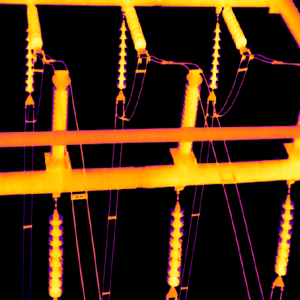insulator: (272, 193, 295, 276), (166, 198, 184, 287), (47, 206, 62, 300), (220, 7, 246, 50), (122, 5, 145, 50), (208, 21, 221, 90), (115, 20, 126, 88), (27, 3, 42, 49), (25, 28, 33, 93)
